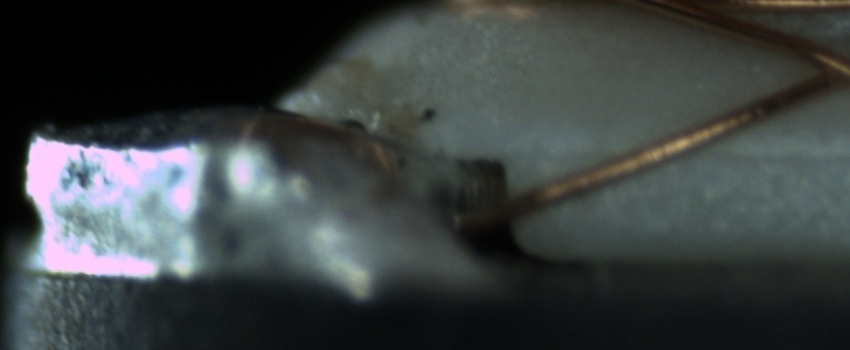CL: (792, 39, 850, 100)
DL: (538, 124, 850, 184)
